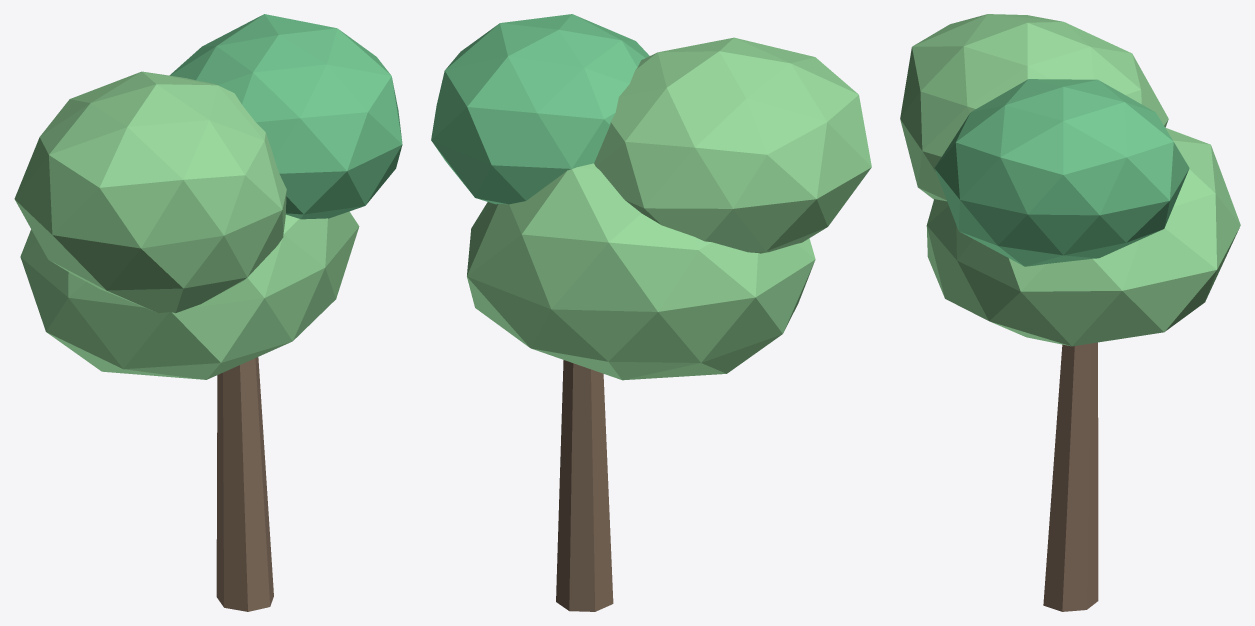
Rendered from Sapling_A.glb.
The picture shows the model from 3 angles, left to right: view 1: azimuth 30°, elevation 25°; view 2: azimuth 150°, elevation 25°; view 3: azimuth 270°, elevation 25°; orthographic projection. The views are drawn at different scales.
Visible parts, largest first — view 1: Sapling_A; view 2: Sapling_A; view 3: Sapling_A.
Part boxes in pixels (x1,y1,x2,y2): Sapling_A: [14, 14, 402, 611]; Sapling_A: [431, 14, 871, 611]; Sapling_A: [900, 14, 1240, 611].
Bounding box in the file's own units: 1.81 × 2.61 × 1.53.
